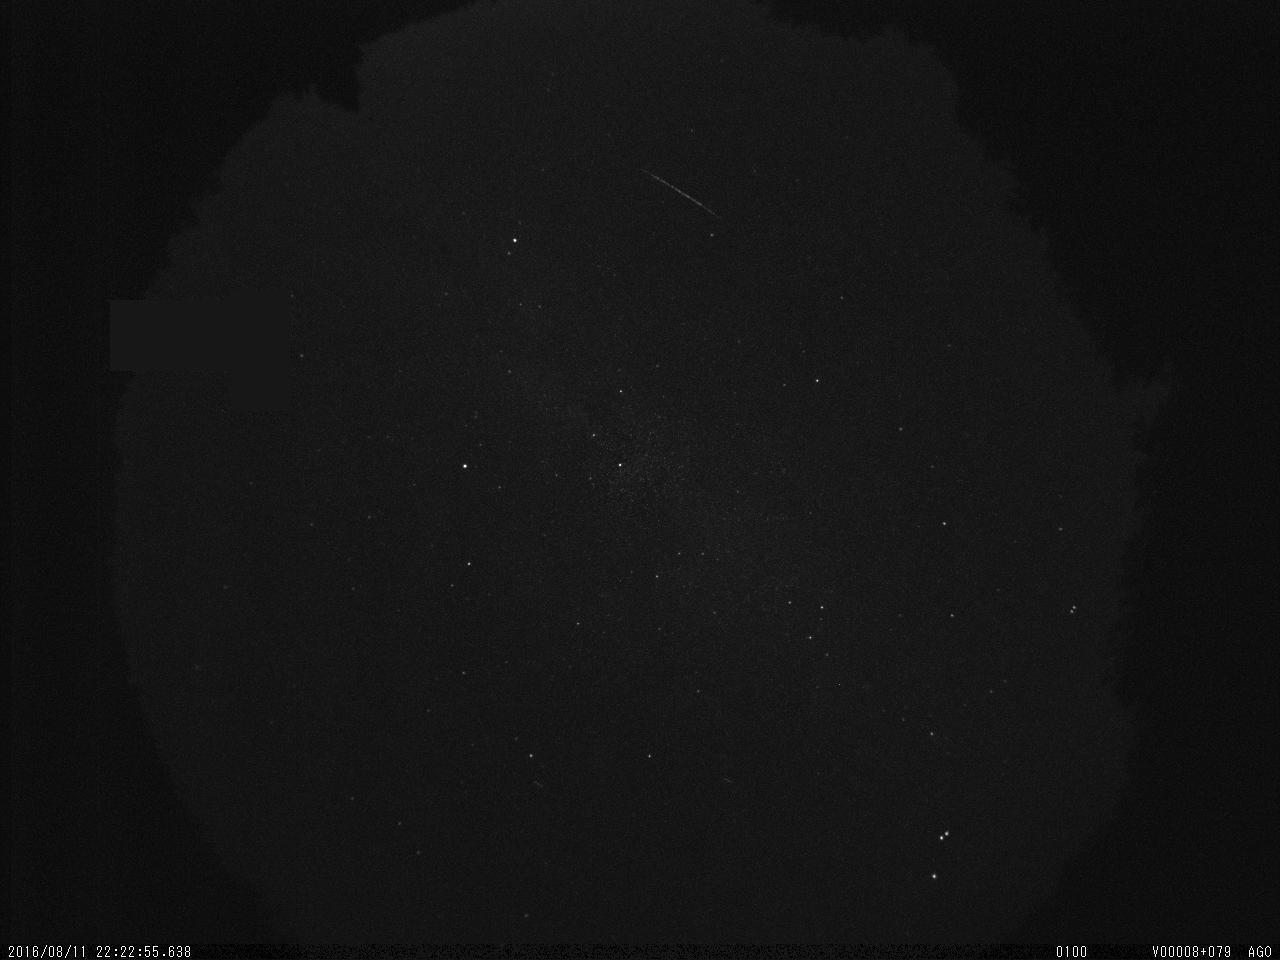meteor: (638, 162, 733, 227)
